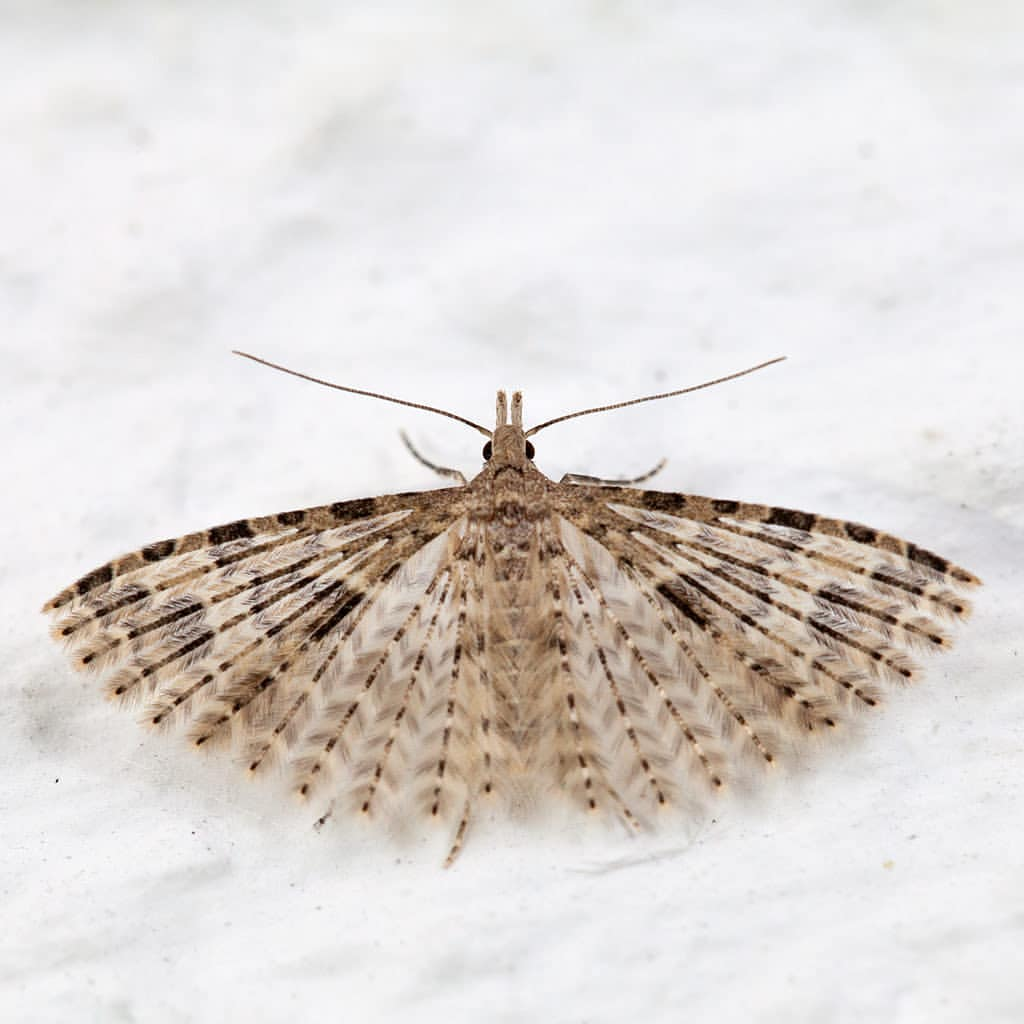Alucitidae: (37, 329, 984, 877)
moth: (39, 331, 986, 879)
